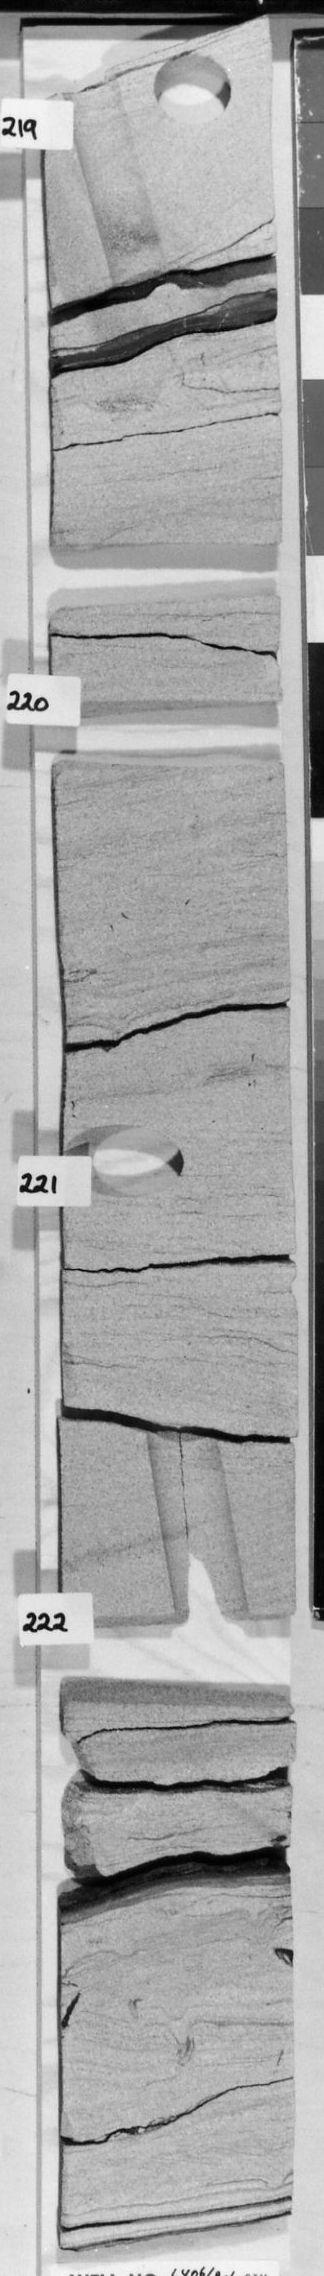hplug: (49, 689, 280, 788), (62, 1618, 288, 1716), (65, 1121, 190, 1203), (151, 46, 234, 129)
vplug: (141, 1422, 256, 1620), (62, 77, 166, 290)
